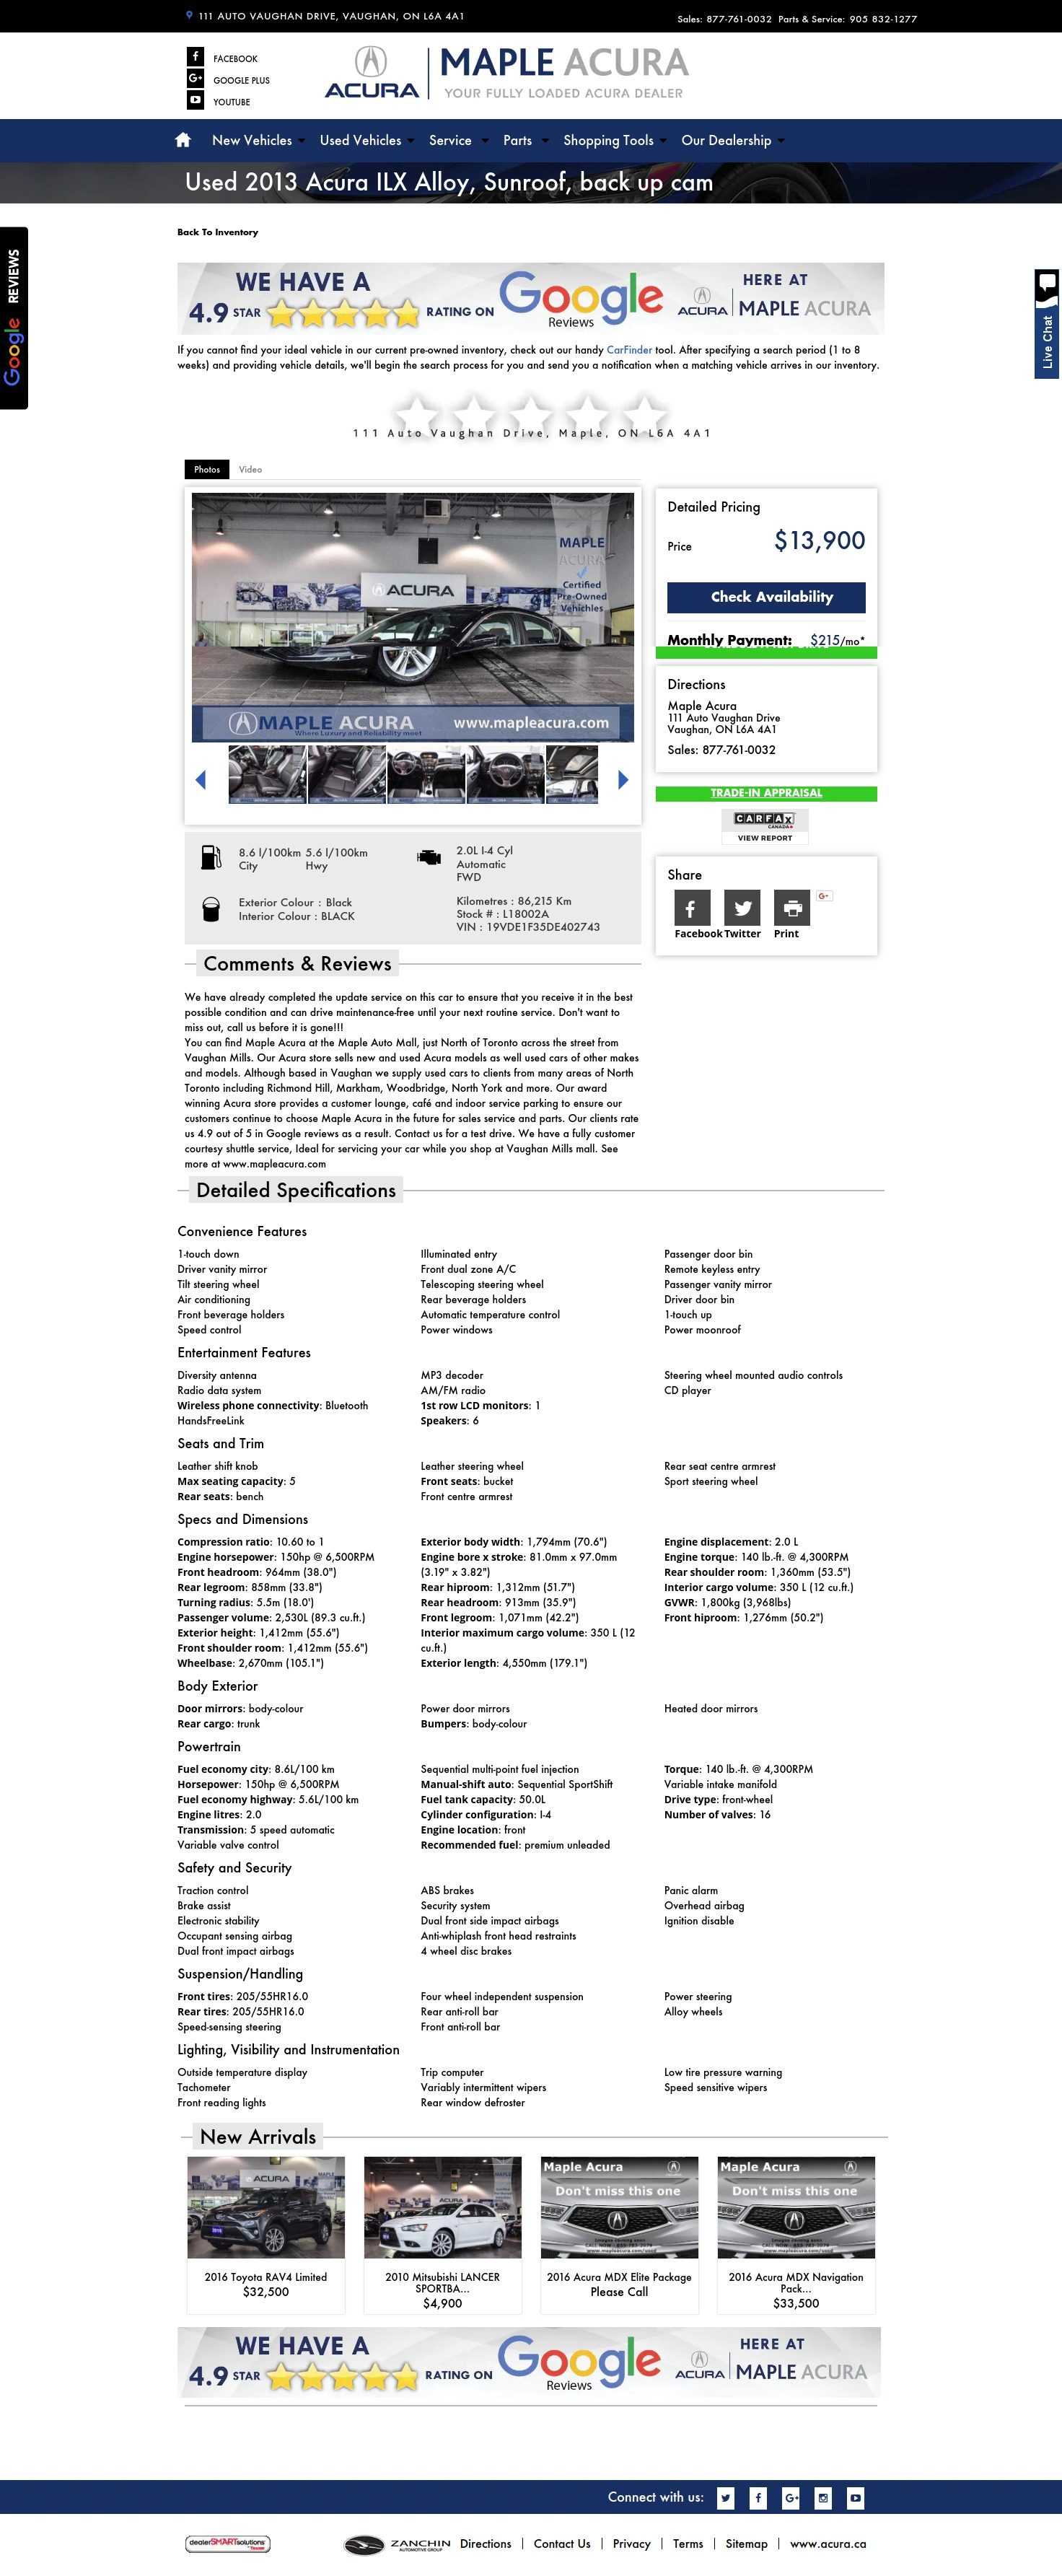car: (617, 769, 630, 790)
